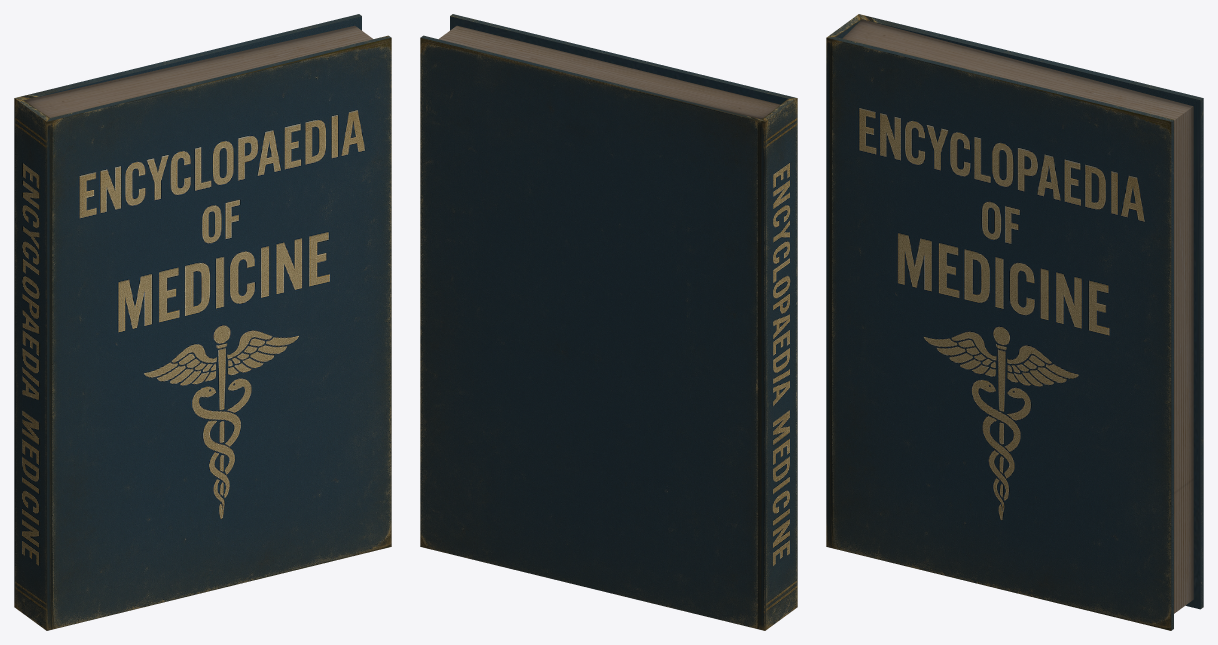
File: book_EOM.fbx
3 views of the same model, side by side, from view 1: azimuth 30°, elevation 25°; view 2: azimuth 150°, elevation 25°; view 3: azimuth 330°, elevation 25° (orthographic).
Visible parts, largest first — view 1: Cube; view 2: Cube; view 3: Cube.
Part boxes in pixels (bbox=[...]): Cube: bbox=[14, 14, 391, 630]; Cube: bbox=[420, 14, 797, 630]; Cube: bbox=[826, 14, 1203, 630].
Size of the model in its own units: 30.7 by 43.34 by 4.99.
